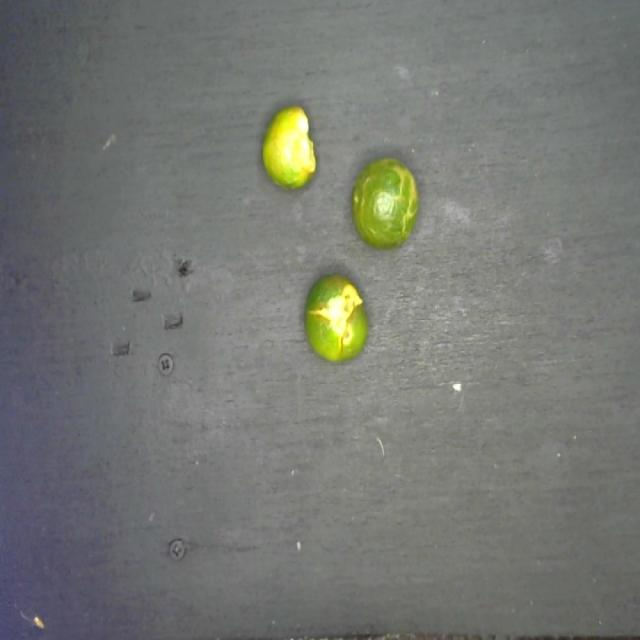biodegradable: (258, 97, 423, 374)
